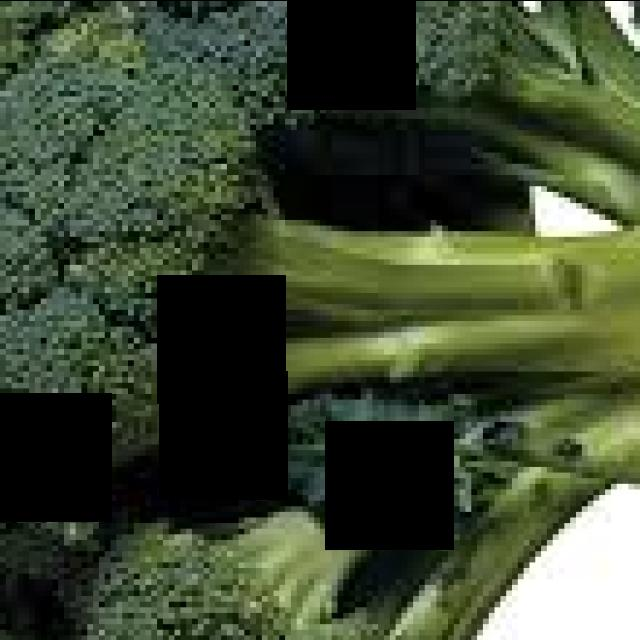broccoli: (119, 0, 640, 237), (0, 467, 613, 640)
